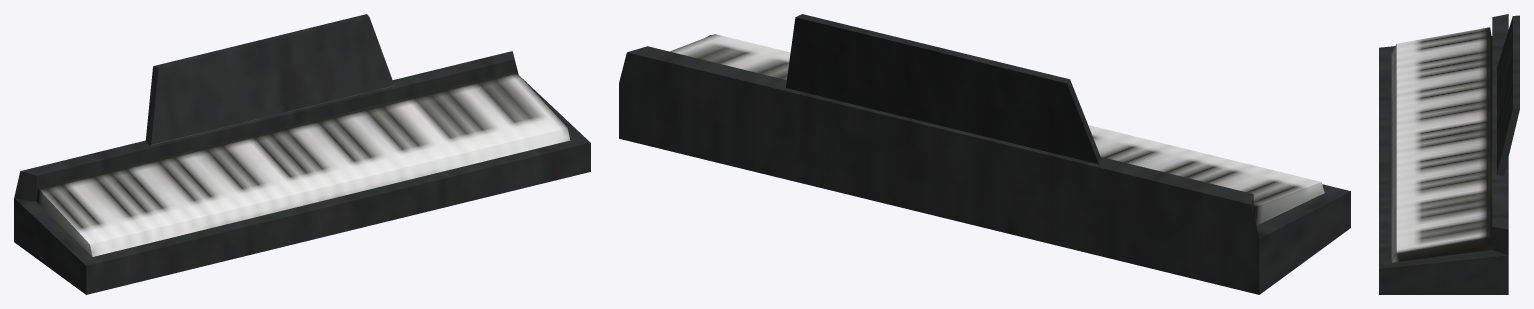
File: int_piano_keyboard.fbx
3 renders of one model, left to right at view 1: azimuth 30°, elevation 25°; view 2: azimuth 150°, elevation 25°; view 3: azimuth 270°, elevation 25°, orthographic. The views are drawn at different scales.
Parts seen in each view (by area): view 1: keyboard_large.002; view 2: keyboard_large.002; view 3: keyboard_large.002.
Part boxes in pixels (x1,y1,x2,y2): keyboard_large.002: [14, 14, 590, 294]; keyboard_large.002: [619, 14, 1350, 294]; keyboard_large.002: [1379, 14, 1519, 294].
Bounding box in the file's own units: 191 × 49.21 × 51.5.
